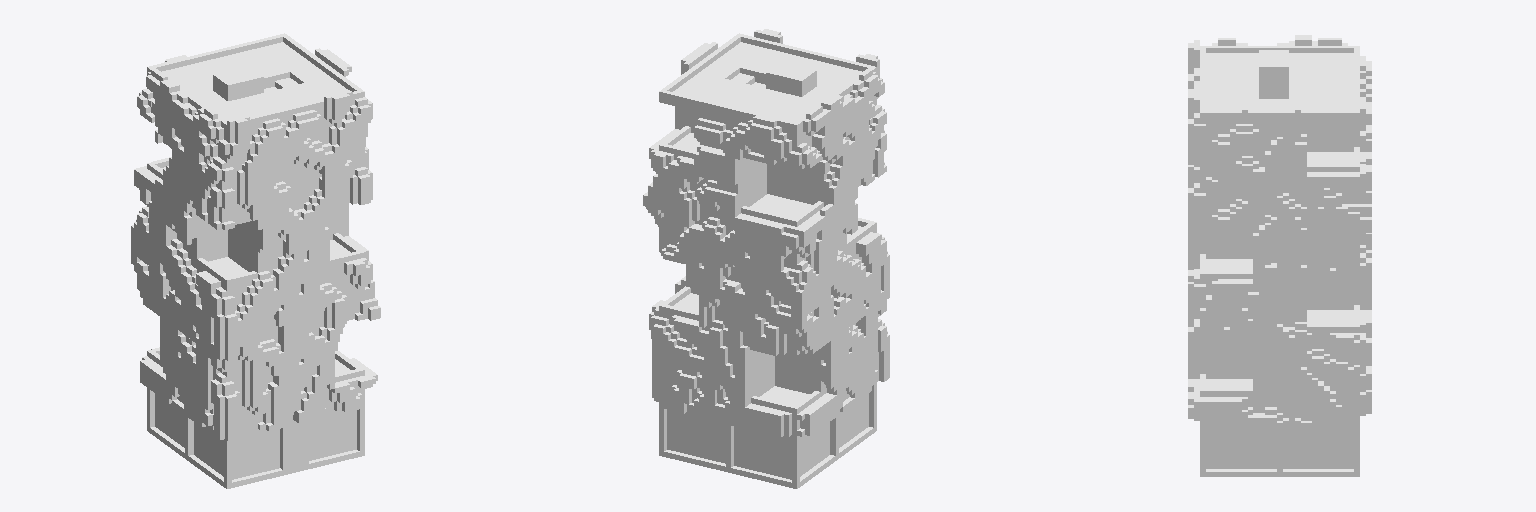
Rendered from Concrete_2.obj.
3 views of the same model, side by side, from view 1: azimuth 30°, elevation 25°; view 2: azimuth 150°, elevation 25°; view 3: azimuth 270°, elevation 25° (orthographic).
Parts seen in each view (by area): view 1: Concrete_2; view 2: Concrete_2; view 3: Concrete_2.
Boxes of the visible parts, x1=… form: Concrete_2: x1=131, y1=33, x2=380, y2=488; Concrete_2: x1=643, y1=29, x2=889, y2=488; Concrete_2: x1=1188, y1=35, x2=1371, y2=476.
Bounding box in the file's own units: 3.1 × 7 × 3.1.